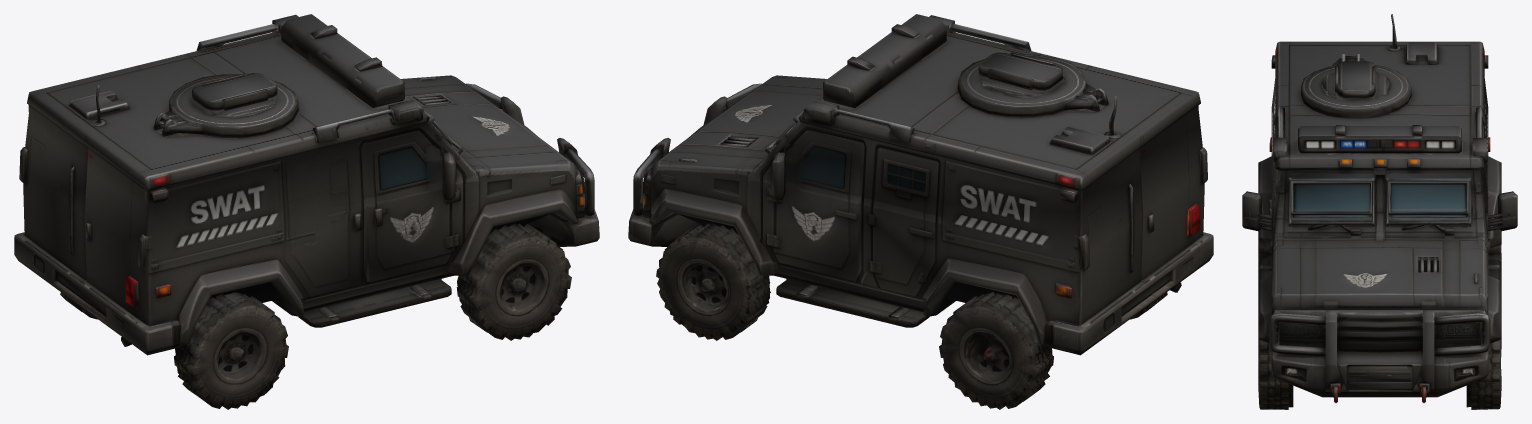
Rendered from swat+armored+vehicle+3d+model.glb.
3 views of the same model, side by side, from view 1: azimuth 30°, elevation 25°; view 2: azimuth 150°, elevation 25°; view 3: azimuth 270°, elevation 25° (orthographic). The views are drawn at different scales.
Visible parts, largest first — view 1: tripo_node_5624abc0-beb1-4d3c-92c4-d506998291a2; view 2: tripo_node_5624abc0-beb1-4d3c-92c4-d506998291a2; view 3: tripo_node_5624abc0-beb1-4d3c-92c4-d506998291a2.
Boxes of the visible parts, x1,y1,x2,y2 form: tripo_node_5624abc0-beb1-4d3c-92c4-d506998291a2: (14,14,599,409); tripo_node_5624abc0-beb1-4d3c-92c4-d506998291a2: (628,14,1213,409); tripo_node_5624abc0-beb1-4d3c-92c4-d506998291a2: (1242,14,1517,409).
Size of the model in its own units: 0.998 by 0.5566 by 0.5684.
1 material, 1 textured.
